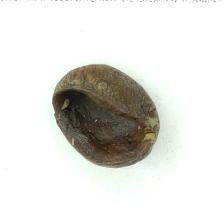NG: (52, 84, 150, 168)
